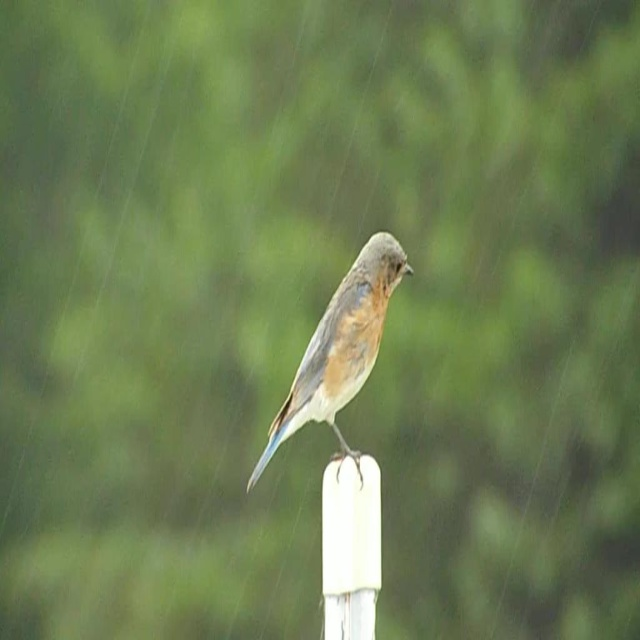Sparrow: (248, 228, 413, 492)
